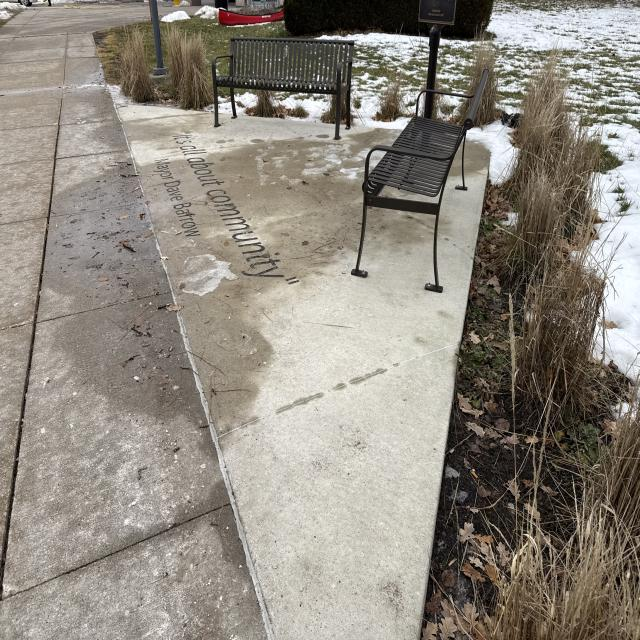Bench: (353, 64, 477, 298), (211, 30, 356, 140)
